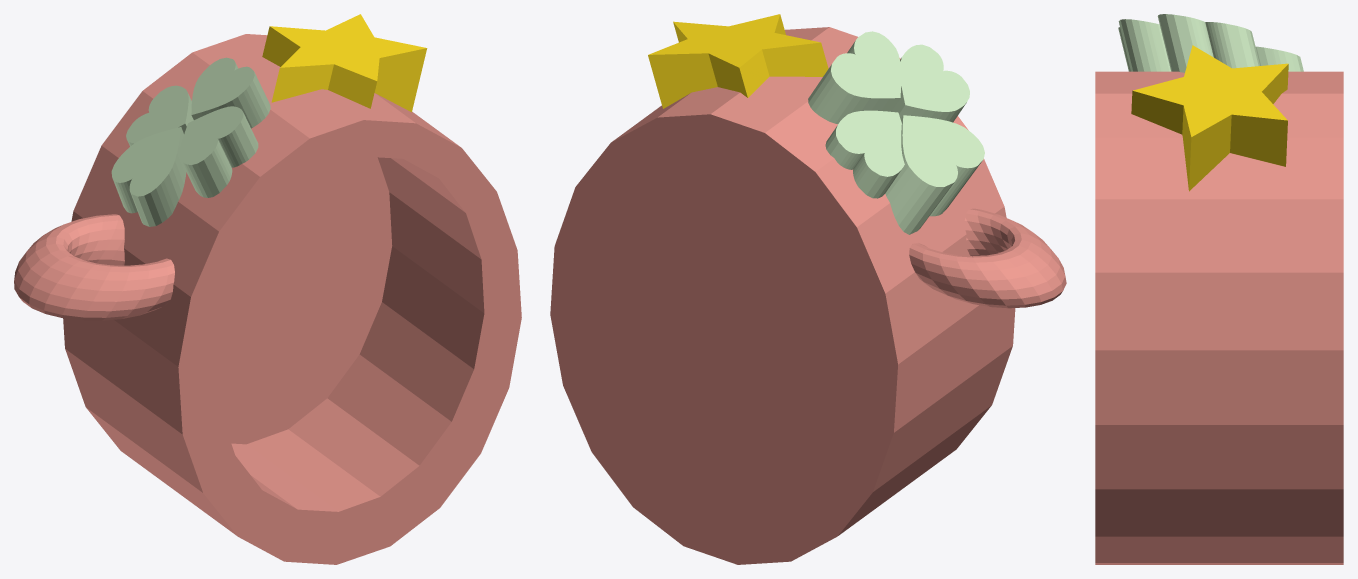
Rendered from tinker.obj.
3 renders of one model, left to right at view 1: azimuth 30°, elevation 25°; view 2: azimuth 150°, elevation 25°; view 3: azimuth 270°, elevation 25°, orthographic. The views are drawn at different scales.
Parts seen in each view (by area): view 1: group_0_15308428, group_0_13165757, group_0_16768282; view 2: group_0_15308428, group_0_13165757, group_0_16768282; view 3: group_0_15308428, group_0_16768282, group_0_13165757.
Part boxes in pixels (x1=…): group_0_15308428: x1=14, y1=34, x2=521, y2=564; group_0_13165757: x1=111, y1=57, x2=270, y2=226; group_0_16768282: x1=262, y1=14, x2=427, y2=112; group_0_15308428: x1=550, y1=27, x2=1066, y2=564; group_0_13165757: x1=808, y1=31, x2=984, y2=234; group_0_16768282: x1=648, y1=14, x2=828, y2=108; group_0_15308428: x1=1095, y1=71, x2=1343, y2=564; group_0_16768282: x1=1131, y1=45, x2=1288, y2=191; group_0_13165757: x1=1118, y1=14, x2=1303, y2=72.
Size of the model in its own units: 117 by 121 by 54.
